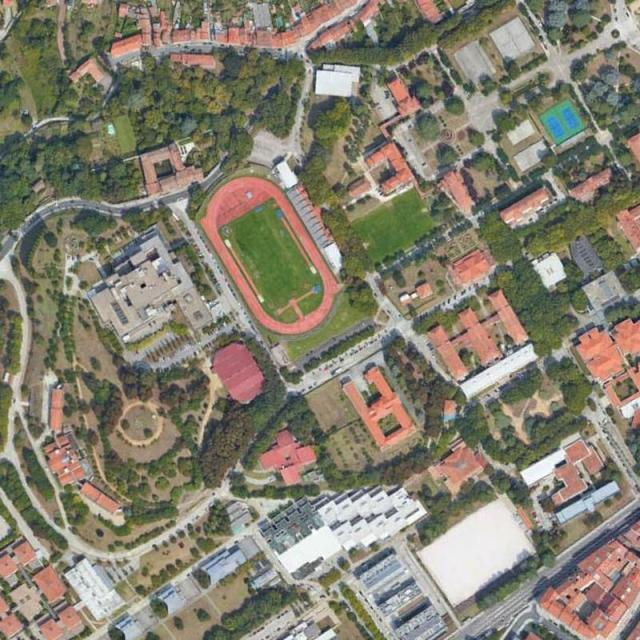vehicle: (334, 367, 342, 374), (210, 502, 214, 507)
